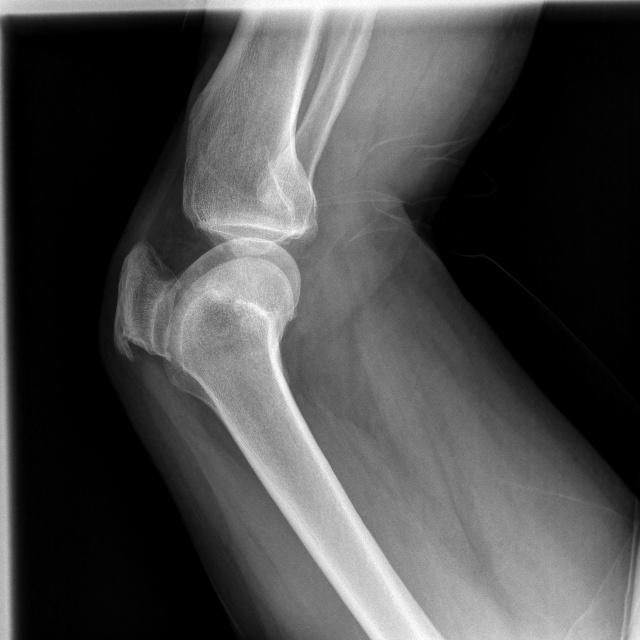Knee: (112, 181, 324, 362)
